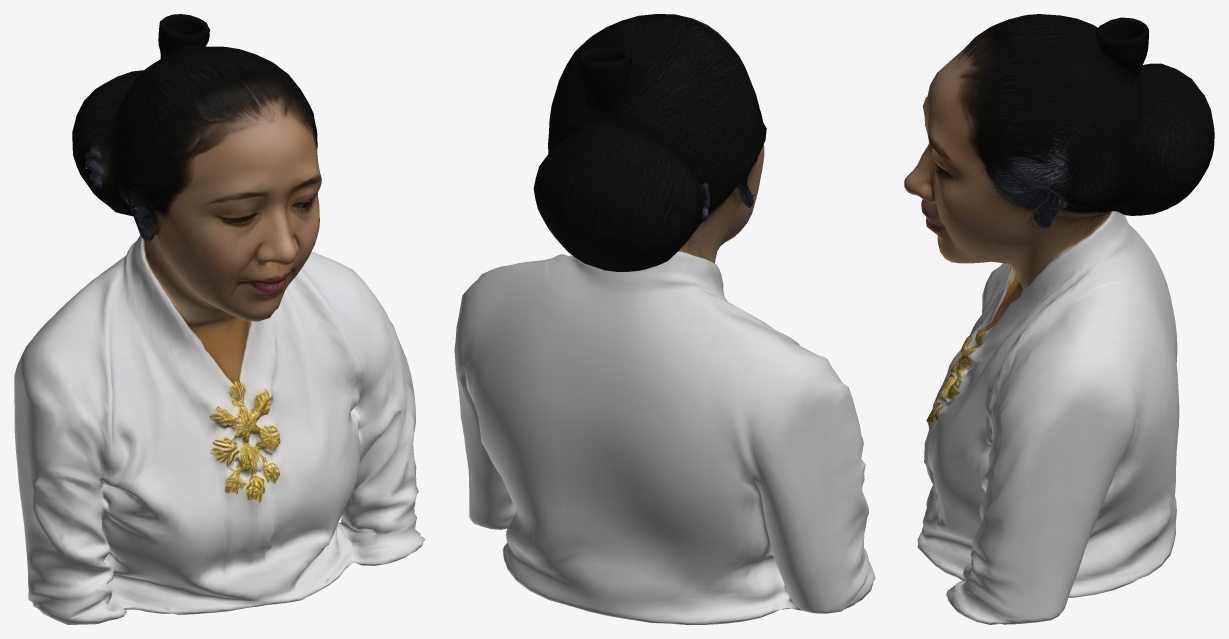
Rendered from kartini.glb.
The picture shows the model from 3 angles, left to right: view 1: azimuth 30°, elevation 25°; view 2: azimuth 150°, elevation 25°; view 3: azimuth 270°, elevation 25°; orthographic projection. The views are drawn at different scales.
Parts seen in each view (by area): view 1: model; view 2: model; view 3: model.
Part boxes in pixels (bbox=[...]): model: bbox=[14, 14, 425, 624]; model: bbox=[454, 14, 875, 624]; model: bbox=[904, 14, 1214, 624].
Bounding box in the file's own units: 1.45 × 1.9 × 1.04.
Materials: 1 (1 with a texture image).
